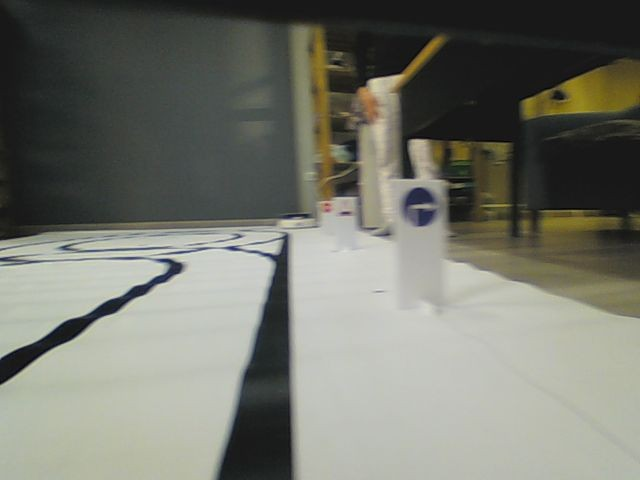Right: (401, 186, 439, 228)
